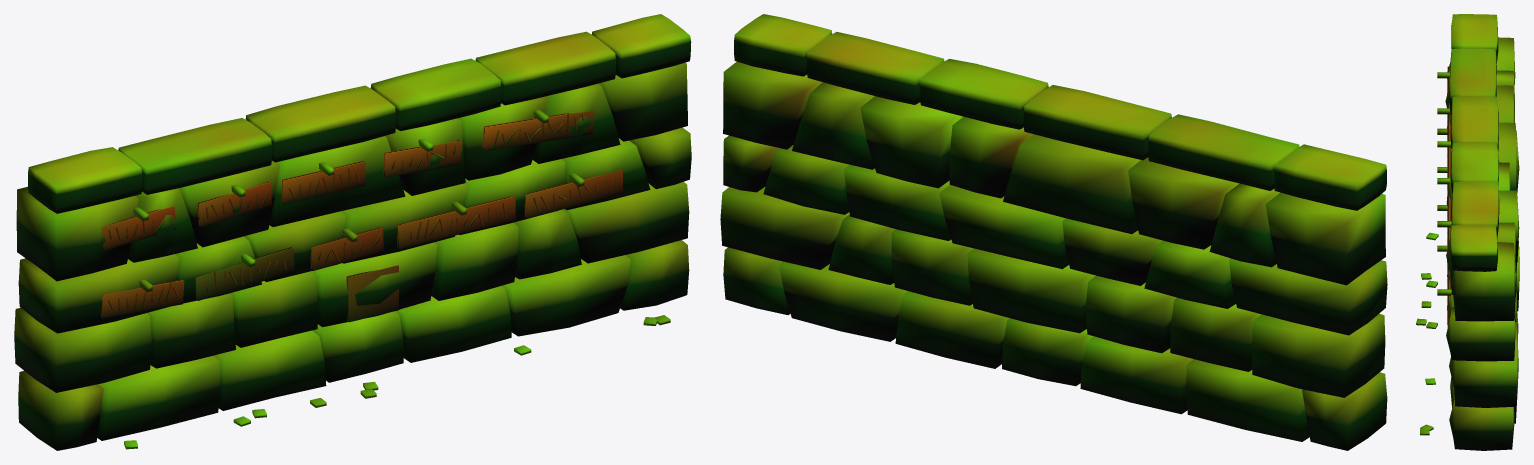
The model's file is wake_wall.glb.
3 renders of one model, left to right at view 1: azimuth 30°, elevation 25°; view 2: azimuth 150°, elevation 25°; view 3: azimuth 270°, elevation 25°, orthographic. The views are drawn at different scales.
Visible parts, largest first — view 1: wake_wall; view 2: wake_wall; view 3: wake_wall.
Part boxes in pixels (box(x1,y1,x2,y2)): wake_wall: box(14, 14, 691, 450); wake_wall: box(720, 14, 1387, 450); wake_wall: box(1416, 14, 1519, 450).
Size of what is drawn, in the model's own units: 5 by 2.01 by 0.9233.
